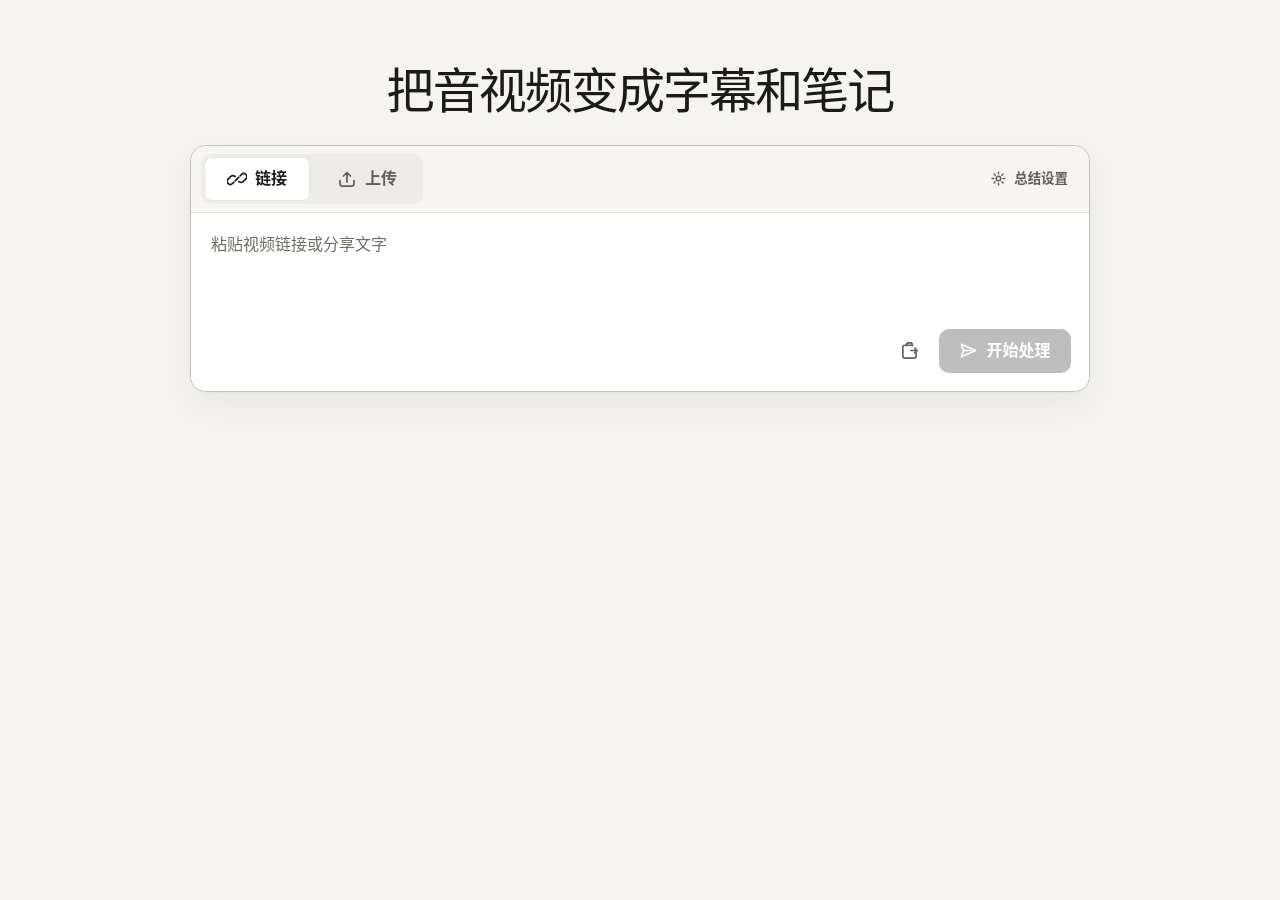
it: CreateTaskPage › explains when a platform requires verification cookies
The width and height of the screenshot is (1280, 900).
expect the tab "链接" is shown: met, box [204, 157, 310, 201]
Type "https://www.bilibili.com/video/BV1x" into the text box named "视频链接或分享文本" at [640, 270], box [209, 231, 1071, 310]
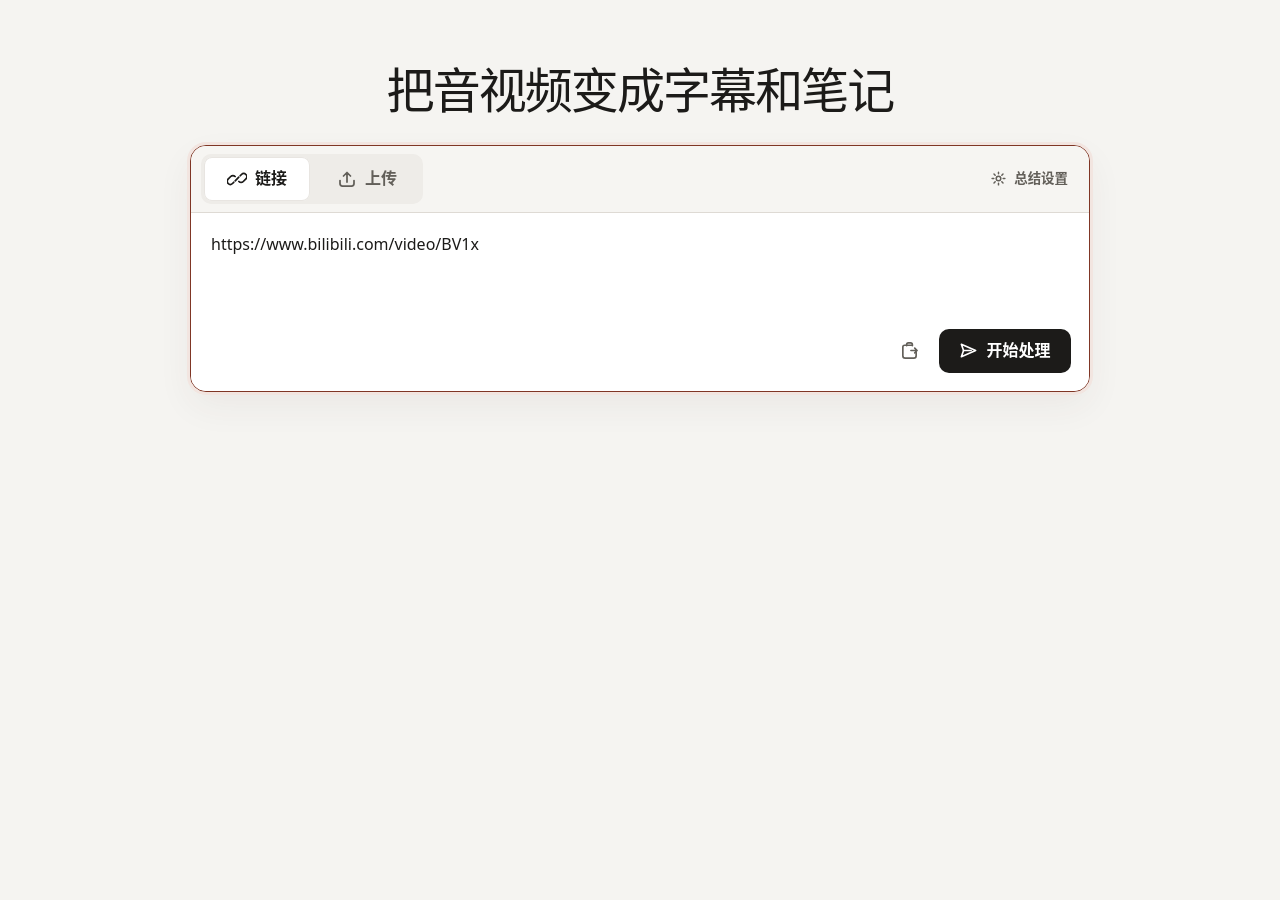
Click the button "开始处理" at [1005, 351], box [939, 329, 1071, 373]
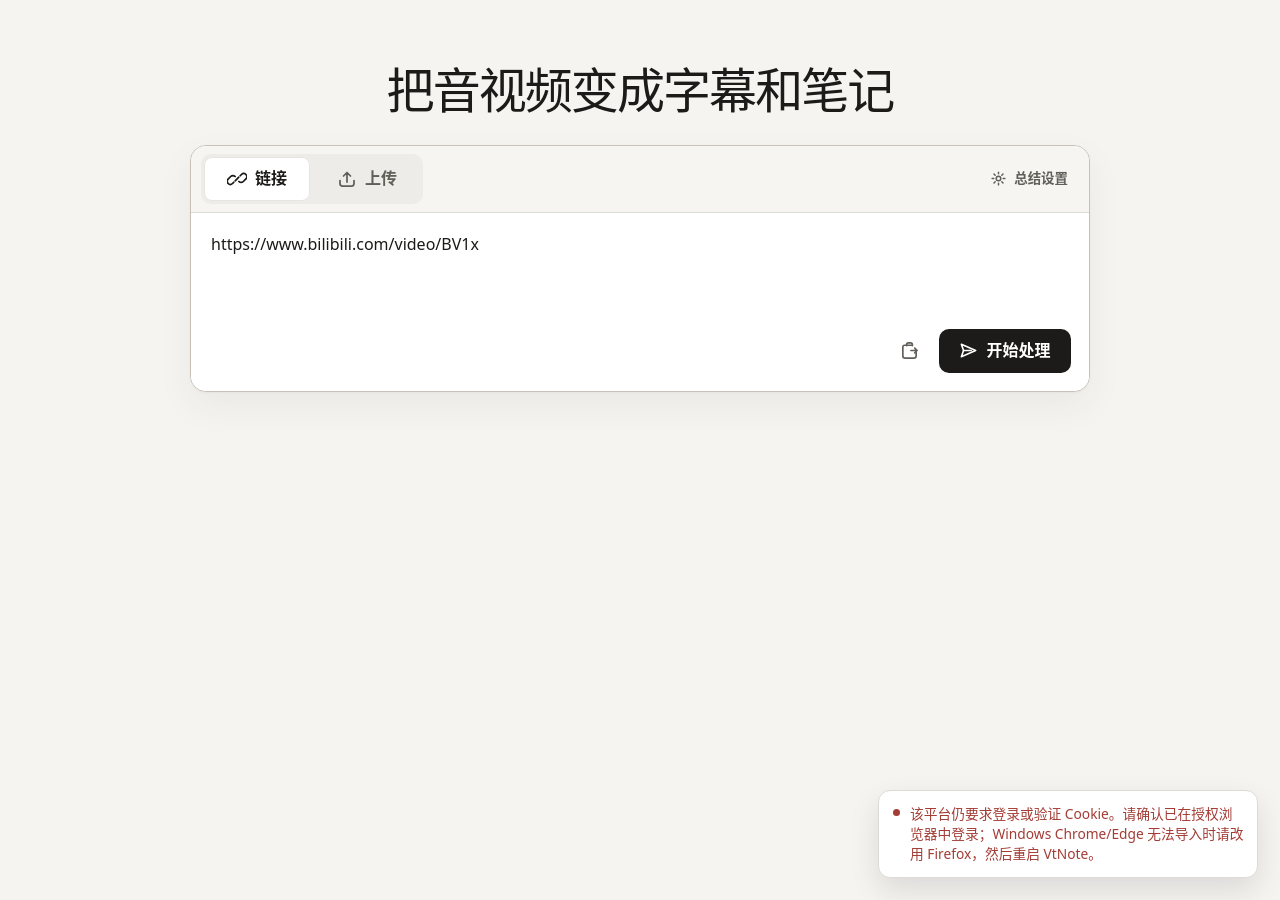
expect the text "该平台仍要求登录或验证 Cookie。请确认已在授权浏览器中登录；Windows Chrome/Edge 无法导入时请改用 Firefox，然后重启 VtNote。" is shown: met, box [910, 804, 1244, 863]
